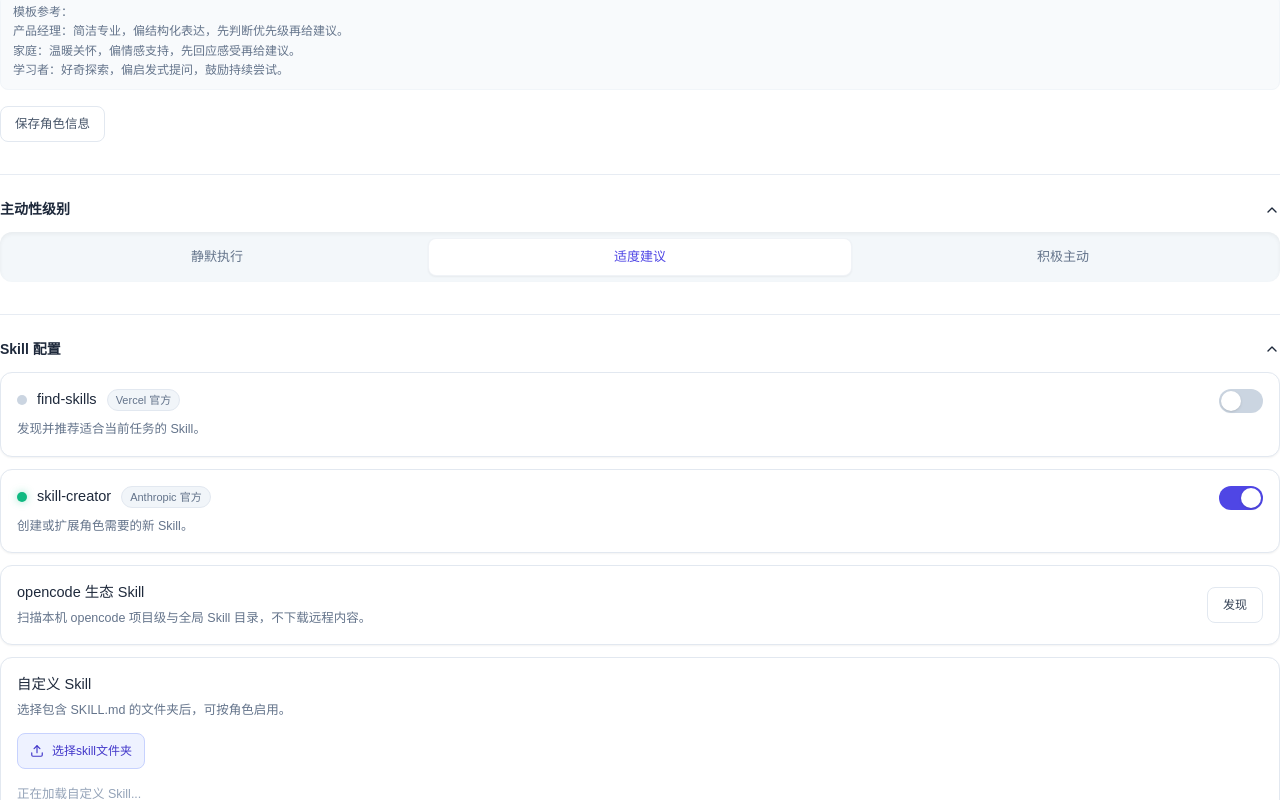
SettingsTab role CRUD actions › 展示并持久化两个默认元 Skill 开关，同时保留自定义 Skill ids
The width and height of the screenshot is (1280, 800).
(page scrolled)
Expected: the text "Skill 配置" is shown, [0,339,61,360]
Expected: the text "Vercel 官方" is shown, [107,389,180,411]
Step 1. Click the switch named "find-skills" in the row of "Vercel 官方" → (1241, 401), box [1219,389,1263,413]
(page scrolled)
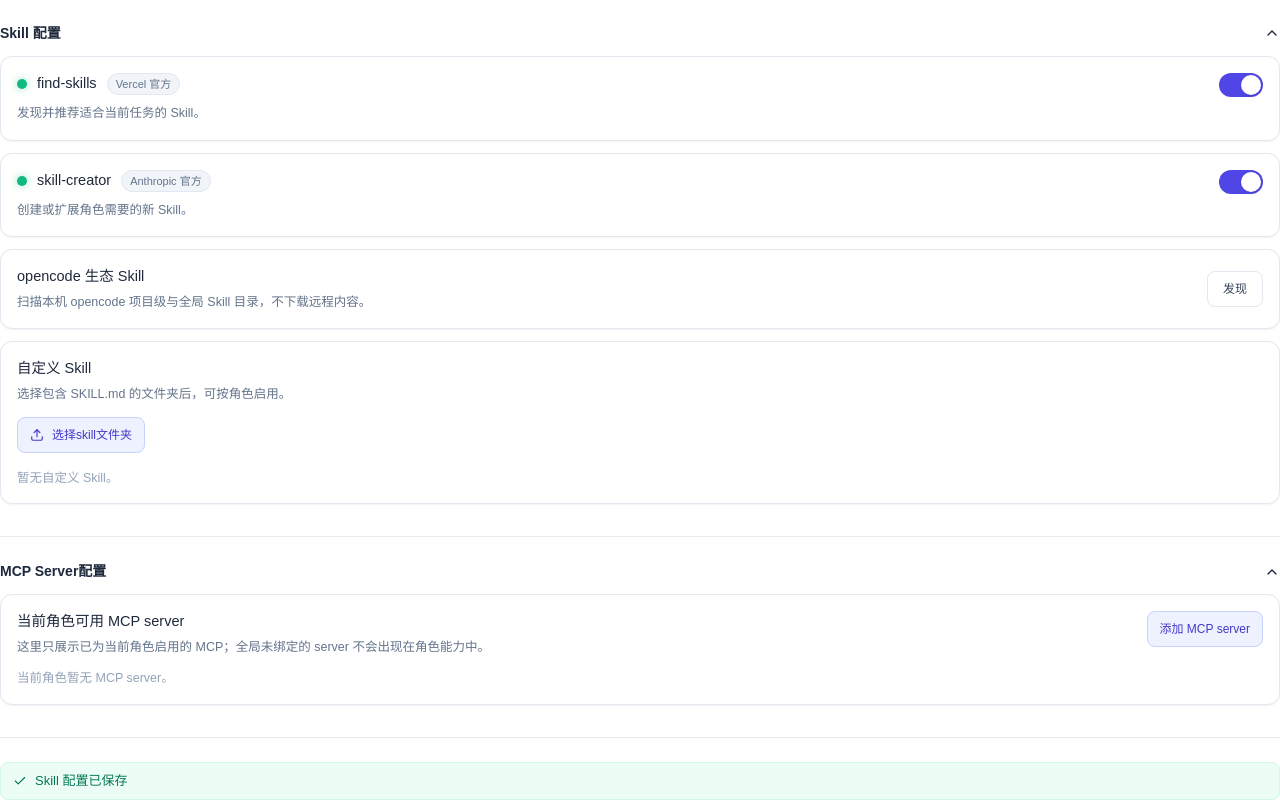
Now the text "Skill 配置已保存" is shown, box [0,762,1279,799]
